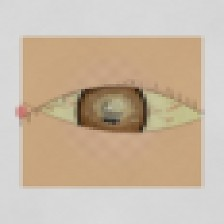corneal_ulcer: (81, 82, 145, 133)
